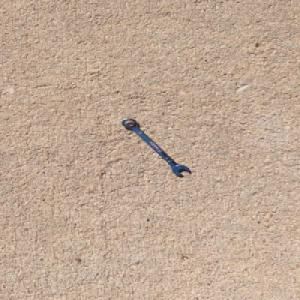Wrench: (121, 117, 191, 176)
